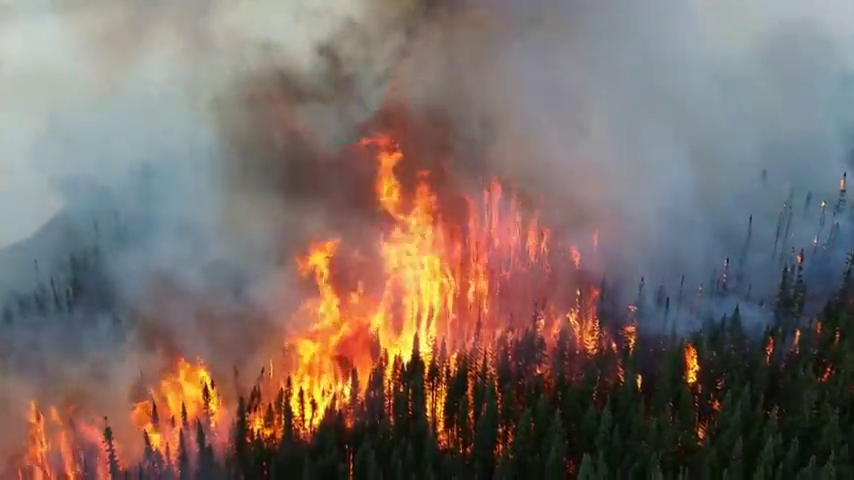forest_fire: (243, 134, 615, 440), (122, 357, 236, 468), (19, 402, 116, 476), (684, 342, 699, 385), (614, 326, 635, 348), (427, 390, 443, 404), (636, 375, 639, 384), (433, 417, 439, 420), (349, 410, 354, 413), (436, 413, 438, 414)
